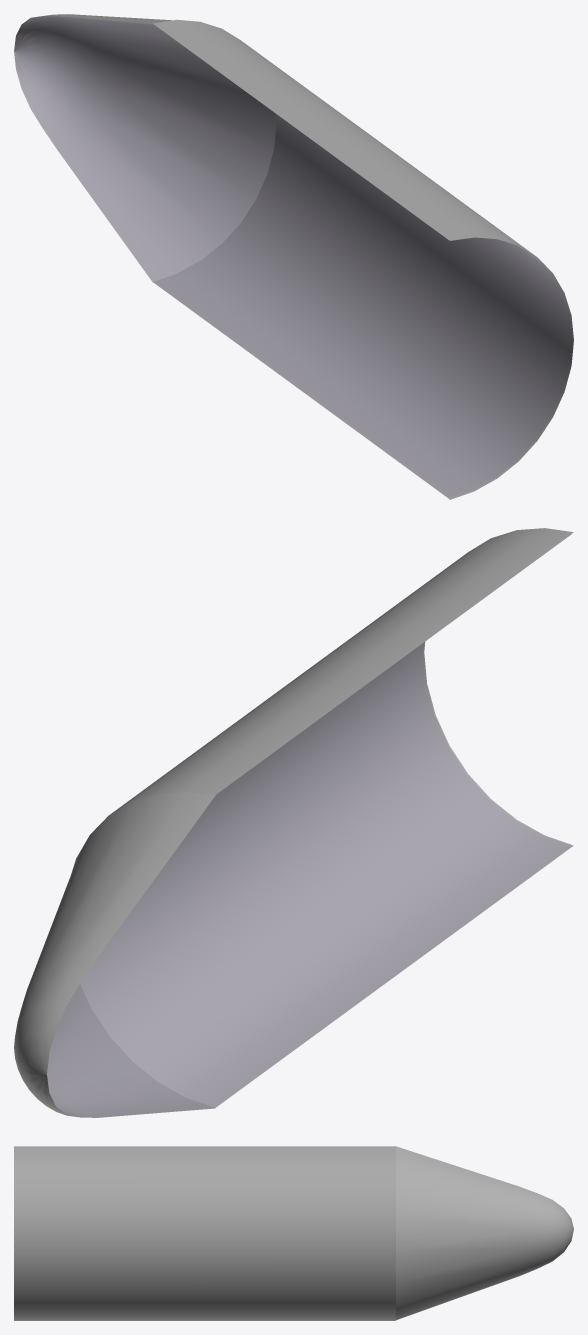
File: fairing301b.obj
3 views of the same model, one above another, from view 1: azimuth 30°, elevation 25°; view 2: azimuth 150°, elevation 25°; view 3: azimuth 270°, elevation 25° (orthographic). The views are drawn at different scales.
Visible parts, largest first — view 1: group0, group1; view 2: group0, group1; view 3: group1.
Part boxes in pixels (<box>): group0: <box>14,16,572,498</box>; group1: <box>14,14,573,499</box>; group0: <box>46,534,571,1117</box>; group1: <box>14,528,573,1117</box>; group1: <box>14,1146,573,1320</box>.
Bounding box in the file's own units: 1.57 × 3.12 × 9.51.
Materials: 2 (1 with a texture image).
